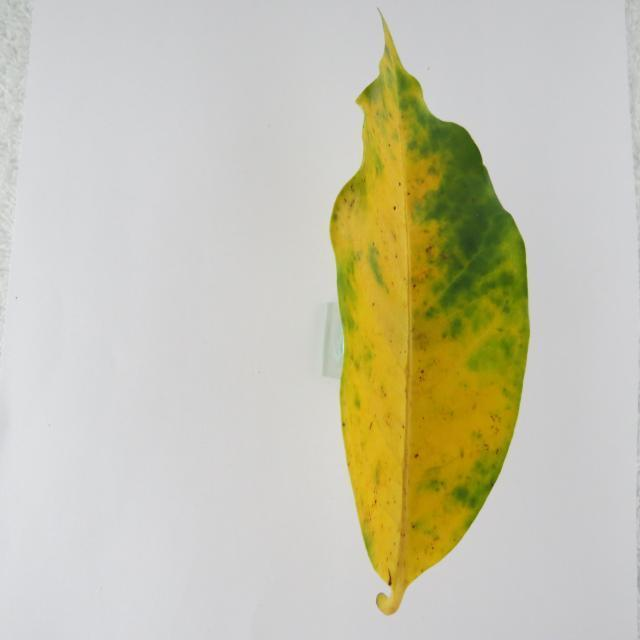DeficienciaNutricional-Nitrogeno: (332, 15, 528, 612)
